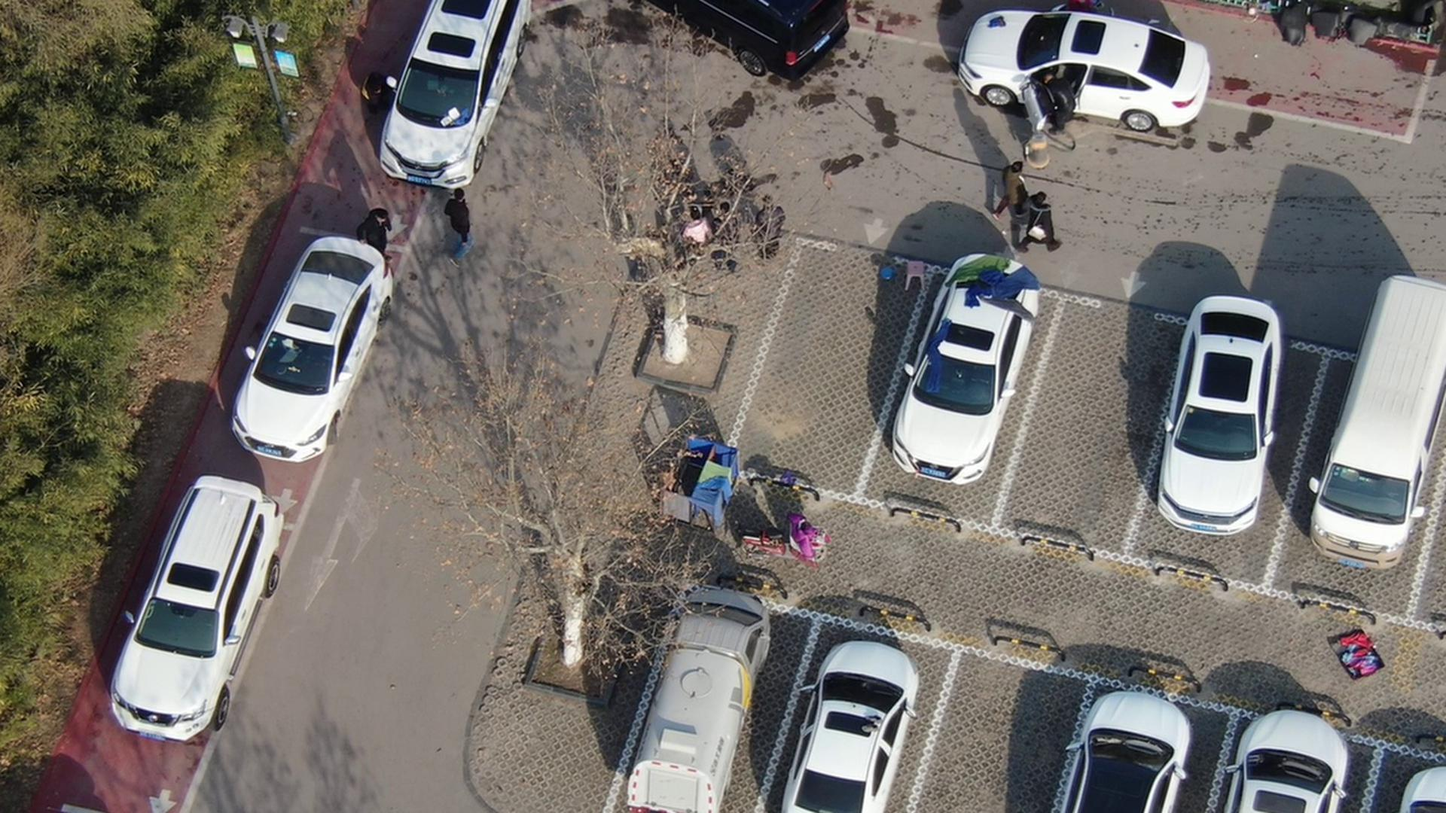human: (1019, 184, 1073, 259), (755, 187, 800, 265), (452, 170, 486, 263), (710, 191, 747, 274), (358, 200, 406, 260), (996, 150, 1036, 221), (1048, 64, 1084, 130), (369, 61, 403, 116)
